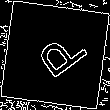P_SW: (24, 25, 86, 85)
